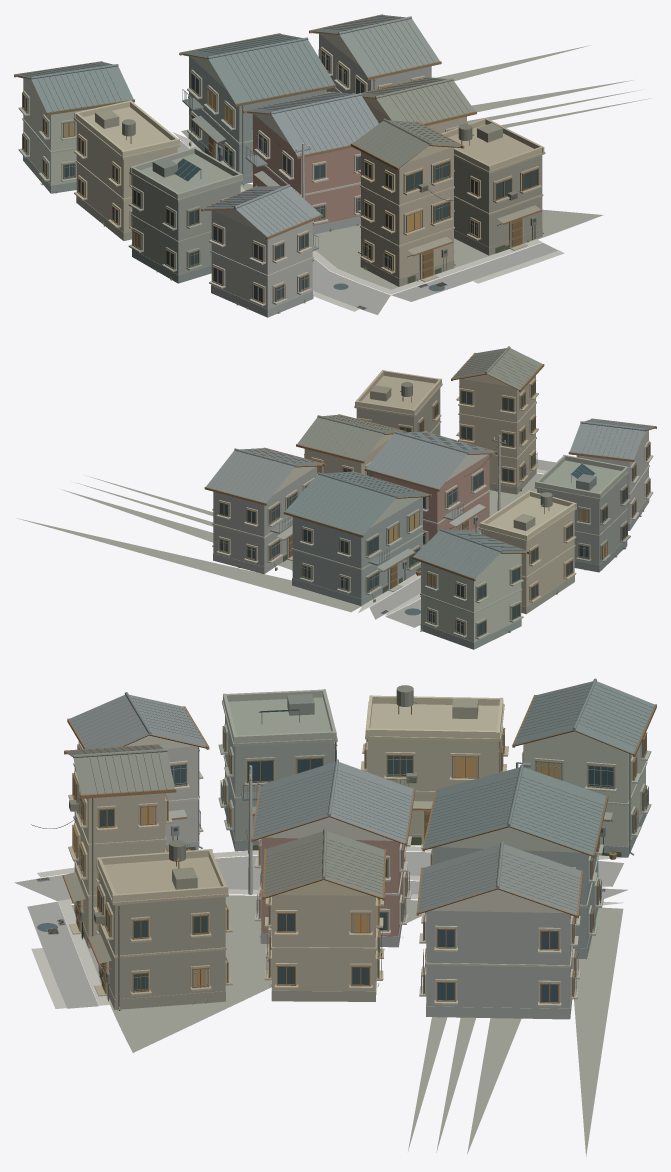
File: street_0_4.glb
The picture shows the model from 3 angles, top to bottom: view 1: azimuth 30°, elevation 25°; view 2: azimuth 150°, elevation 25°; view 3: azimuth 270°, elevation 25°; orthographic projection. The views are drawn at different scales.
Parts seen in each view (by area): view 1: roof_tile.008, concrete.009, trim.014, graybrick.014, wood.014, plaster.014, ground.083, glass.014, brick.023, road.011, metal.014, roof_metal.014 (+2 smaller); view 2: roof_tile.008, graybrick.014, concrete.009, trim.014, plaster.014, wood.014, ground.083, glass.014, brick.023, metal.014, roof_metal.014, road.011 (+1 smaller); view 3: roof_tile.008, graybrick.014, trim.014, concrete.009, ground.083, plaster.014, wood.014, glass.014, road.011, metal.014, paving.007, roof_metal.014 (+2 smaller).
Part boxes in pixels (left/top/right/bottom): roof_tile.008: left=16, top=15, right=475, bottom=236; concrete.009: left=76, top=99, right=466, bottom=309; trim.014: left=18, top=46, right=545, bottom=306; graybrick.014: left=23, top=33, right=542, bottom=317; wood.014: left=14, top=14, right=539, bottom=303; plaster.014: left=23, top=34, right=544, bottom=230; ground.083: left=181, top=45, right=650, bottom=289; glass.014: left=23, top=51, right=537, bottom=301; brick.023: left=253, top=114, right=360, bottom=226; road.011: left=177, top=141, right=558, bottom=314; metal.014: left=64, top=49, right=543, bottom=309; roof_metal.014: left=95, top=91, right=540, bottom=254; roof_tile.008: left=206, top=346, right=655, bottom=578; graybrick.014: left=213, top=388, right=649, bottom=649; concrete.009: left=304, top=375, right=648, bottom=606; trim.014: left=212, top=375, right=653, bottom=639; plaster.014: left=273, top=370, right=647, bottom=642; wood.014: left=204, top=353, right=656, bottom=637; ground.083: left=17, top=473, right=543, bottom=612; glass.014: left=220, top=381, right=649, bottom=636; brick.023: left=373, top=454, right=489, bottom=541; metal.014: left=218, top=382, right=595, bottom=635; roof_metal.014: left=277, top=385, right=596, bottom=570; road.011: left=369, top=459, right=555, bottom=627; roof_tile.008: left=65, top=678, right=654, bottom=914; graybrick.014: left=74, top=807, right=646, bottom=1019; trim.014: left=68, top=697, right=651, bottom=1006; concrete.009: left=74, top=716, right=499, bottom=991; ground.083: left=71, top=895, right=623, bottom=1156; plaster.014: left=96, top=689, right=645, bottom=912; wood.014: left=64, top=695, right=656, bottom=1003; glass.014: left=73, top=709, right=645, bottom=1001; road.011: left=14, top=852, right=627, bottom=1008; metal.014: left=36, top=685, right=648, bottom=1010; paving.007: left=31, top=846, right=624, bottom=1008; roof_metal.014: left=63, top=694, right=612, bottom=963.
Bounding box in the file's own units: 46.65 × 10.75 × 35.7.
